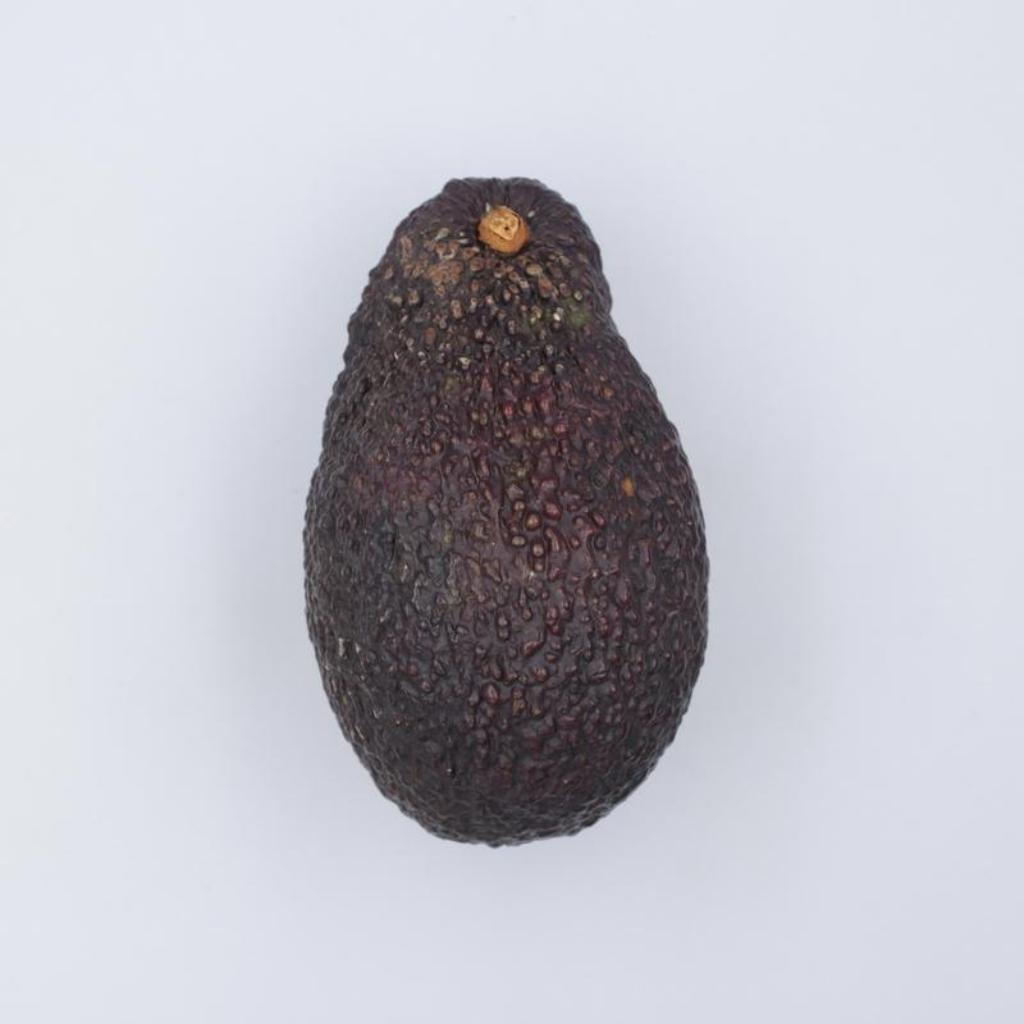anthracnose: (305, 178, 708, 845)
